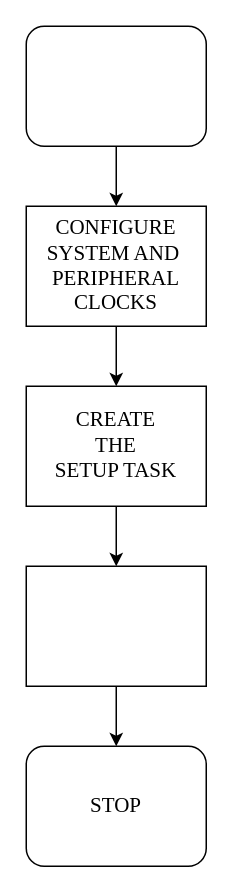
Image size: 233x893. Some labels were removed from this diagram. The shapes that lost their labels are listed below. From the top down, each one's centre as x and y in pixels, then its label:
the point at 115,85: START
the point at 115,625: START THE SCHEDULER
